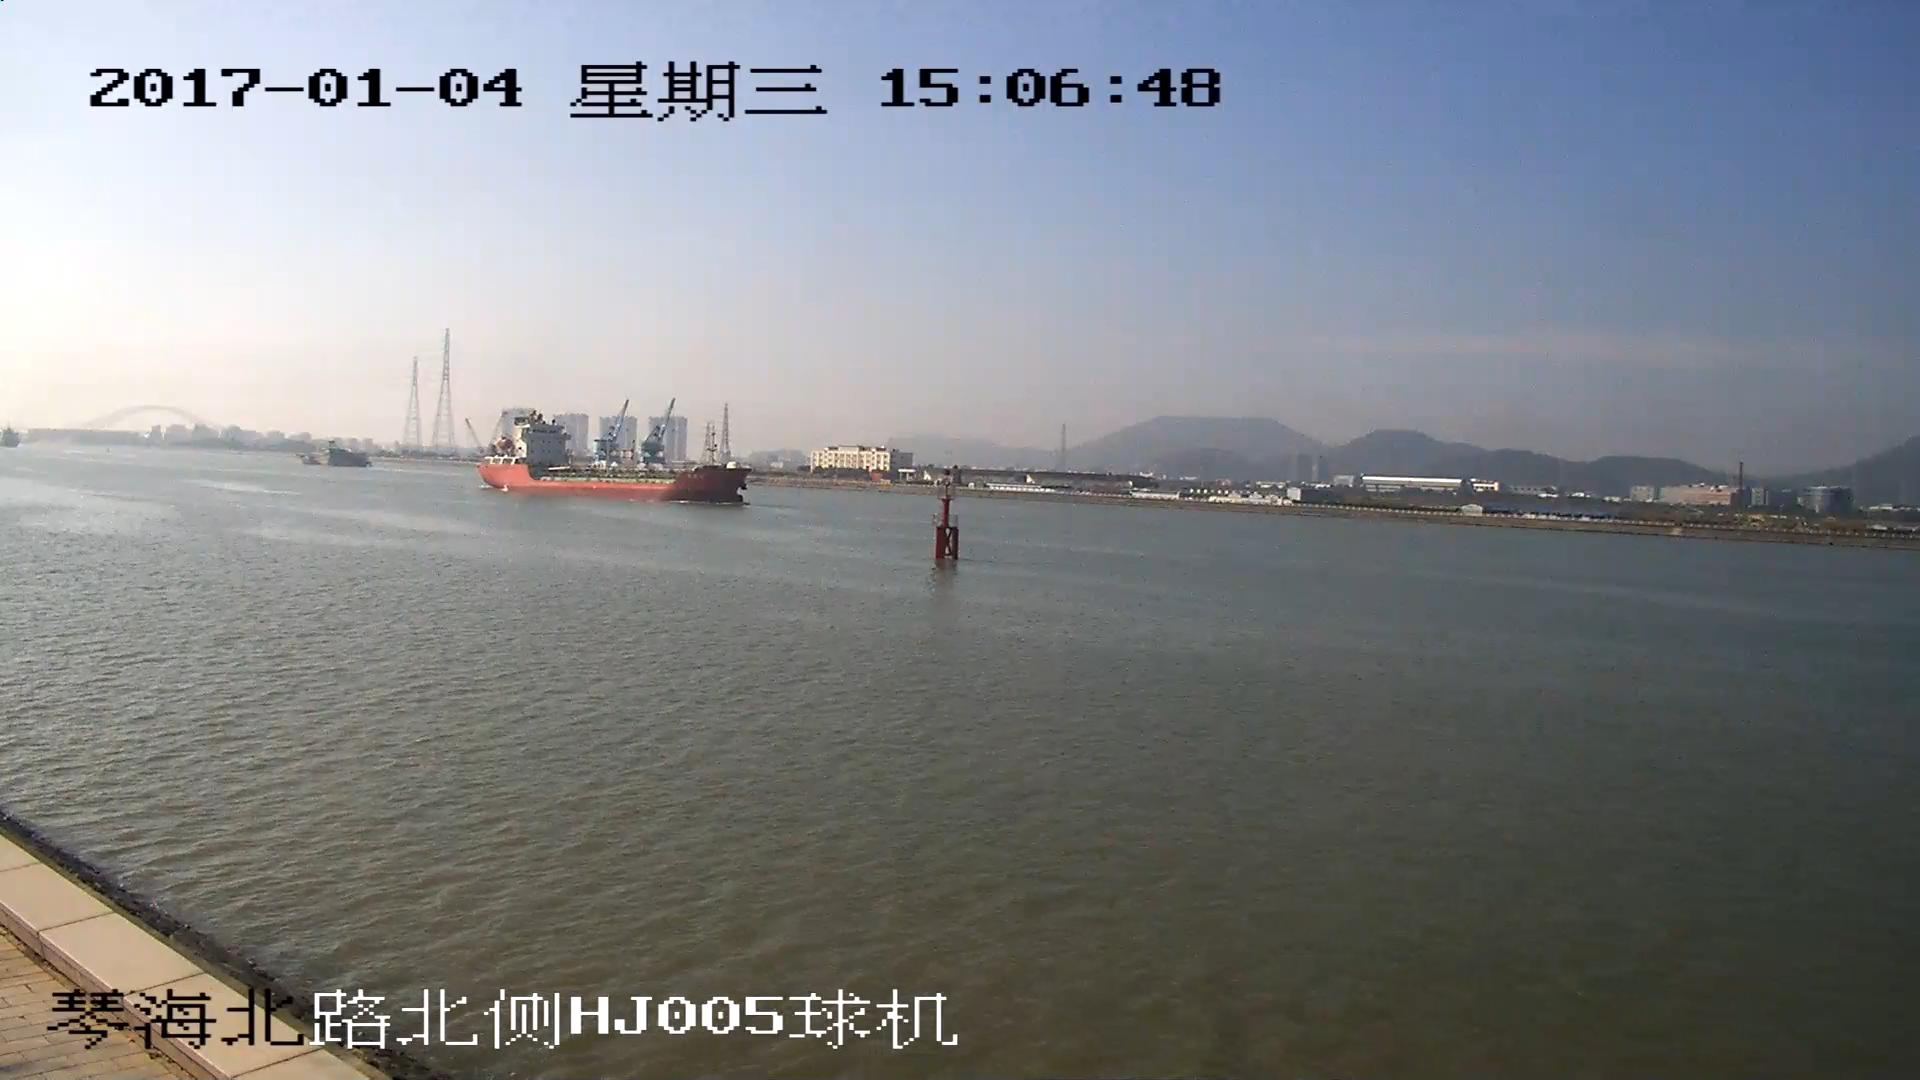general cargo ship: (476, 442, 747, 499)
